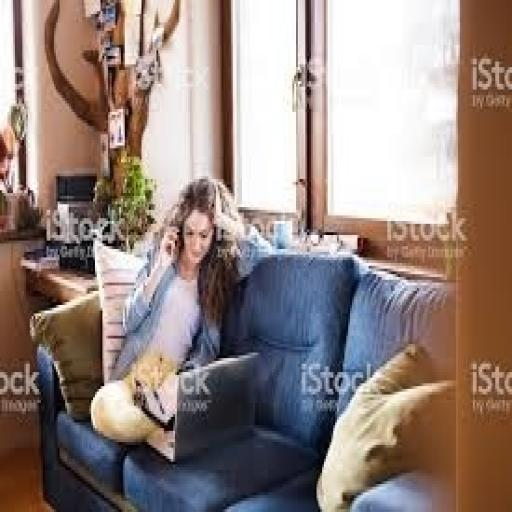calling: (87, 174, 272, 448)
